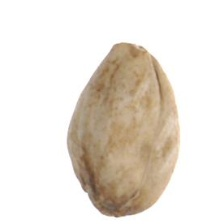L1: (114, 39, 159, 68), (86, 189, 127, 219)
L2: (66, 41, 181, 218)
